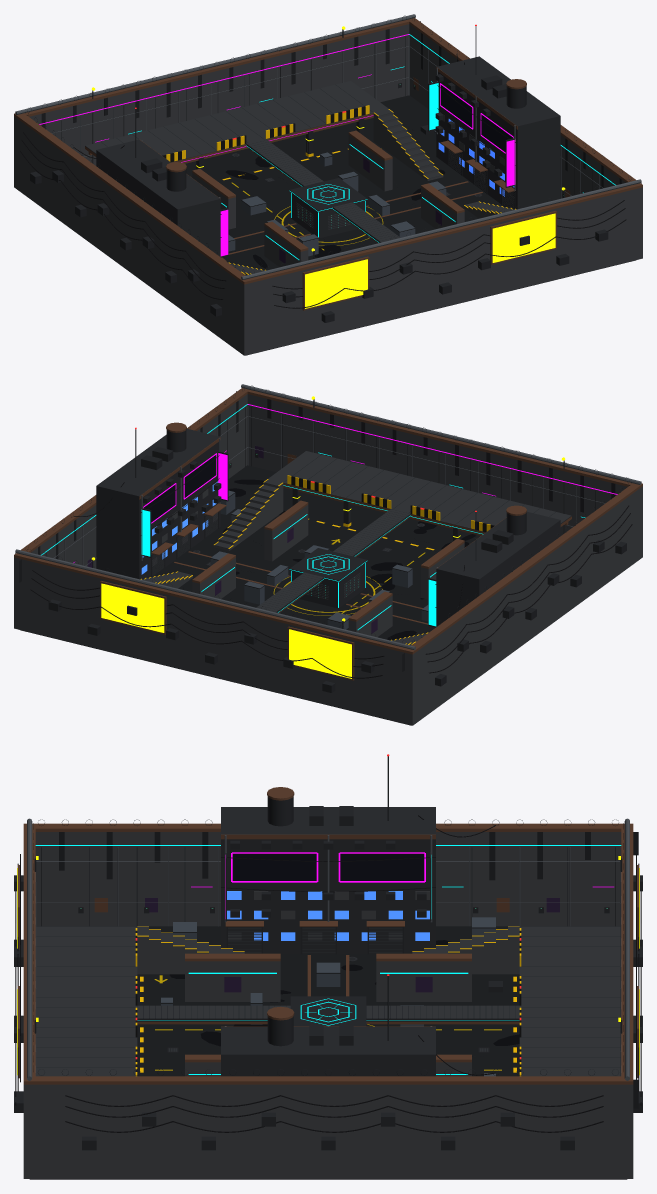
Rendered from arena.glb.
3 renders of one model, top to bottom at view 1: azimuth 30°, elevation 25°; view 2: azimuth 150°, elevation 25°; view 3: azimuth 270°, elevation 25°, orthographic. The views are drawn at different scales.
Visible parts, largest first — view 1: Outer_Walls, Outer_Walls_Decor, Ground, Side_Building_E, Upper_Platform_S, Side_Building_W, Divider_Walls, Side_Buildings_Decor, Detail_Fine_Decor, Central_Tower, Stairs_4, Crates (+10 smaller); view 2: Outer_Walls, Outer_Walls_Decor, Ground, Side_Building_E, Upper_Platform_N, Side_Building_W, Divider_Walls, Side_Buildings_Decor, Detail_Fine_Decor, Central_Tower, Ground_Decor, Crates (+10 smaller); view 3: Outer_Walls, Side_Building_W, Outer_Walls_Decor, Ground, Upper_Platform_N, Upper_Platform_S, Side_Buildings_Decor, Divider_Walls, Side_Building_E, Detail_Fine_Decor, Stairs_1, Stairs_3 (+10 smaller).
Part boxes in pixels (x1,y1,x2,y2): Outer_Walls: (14,18,642,355); Outer_Walls_Decor: (15,14,641,322); Ground: (185,95,635,355); Side_Building_E: (436,56,560,209); Upper_Platform_S: (85,81,388,162); Side_Building_W: (96,139,220,256); Divider_Walls: (192,130,464,267); Side_Buildings_Decor: (73,24,526,203); Detail_Fine_Decor: (25,15,631,274); Central_Tower: (289,178,366,238); Stairs_4: (373,109,443,180); Crates: (228,130,446,256); Outer_Walls: (14,388,642,725); Outer_Walls_Decor: (15,384,641,692); Ground: (20,465,480,725); Side_Building_E: (96,429,220,579); Upper_Platform_N: (268,451,571,534); Side_Building_W: (436,511,560,626); Divider_Walls: (192,500,464,637); Side_Buildings_Decor: (73,422,526,609); Detail_Fine_Decor: (25,385,631,644); Central_Tower: (290,548,367,608); Ground_Decor: (174,479,475,640); Crates: (210,490,428,629); Outer_Walls: (23,823,633,1178); Side_Building_W: (221,807,435,953); Outer_Walls_Decor: (14,818,642,1150); Ground: (29,926,627,1179); Upper_Platform_N: (36,926,137,1076); Upper_Platform_S: (519,926,620,1076); Side_Buildings_Decor: (221,754,495,1075); Divider_Walls: (185,953,471,1076); Side_Building_E: (221,1027,435,1076); Detail_Fine_Decor: (33,819,623,1075); Stairs_1: (137,926,244,974); Stairs_3: (412,926,519,974).
Size of the model in its own units: 52.6 by 17.4 by 52.6.
